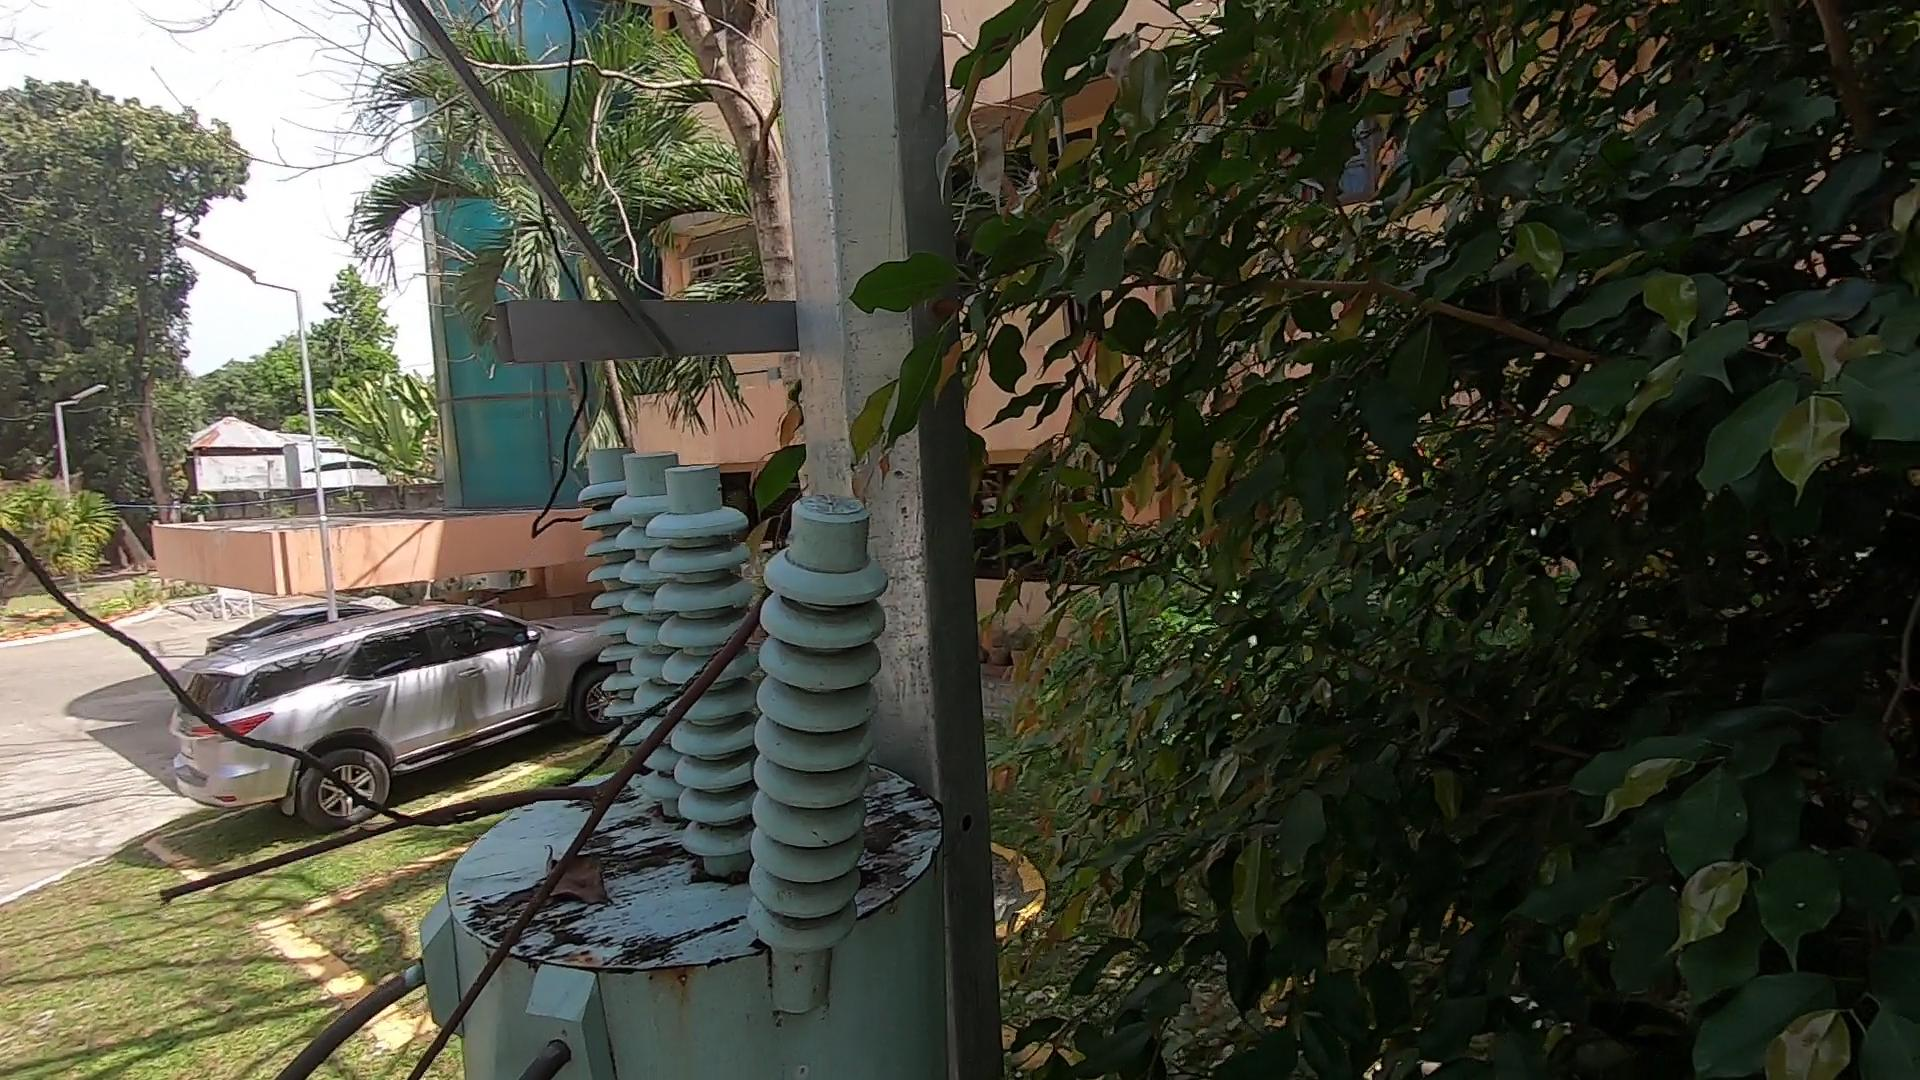leaf: (527, 828, 624, 902)
tree branch: (140, 575, 785, 1080)
